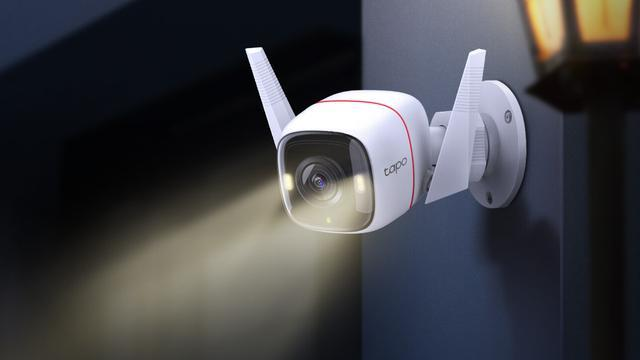camera: (229, 18, 506, 255)
